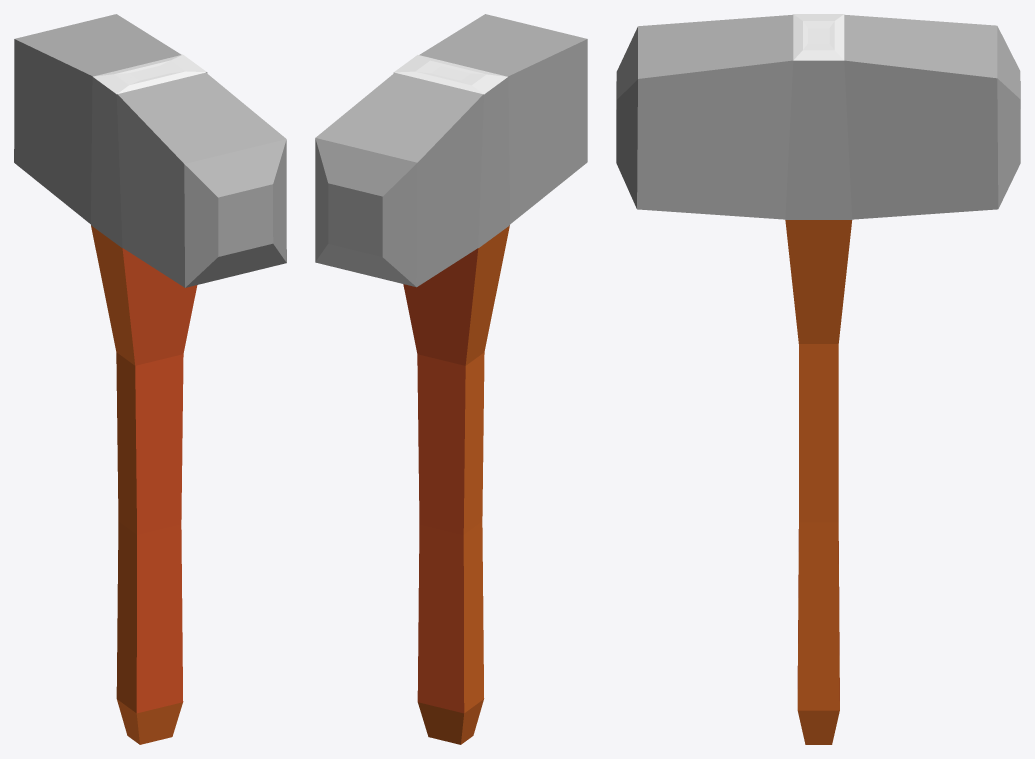
Rendered from Hammer.fbx.
3 views of the same model, side by side, from view 1: azimuth 30°, elevation 25°; view 2: azimuth 150°, elevation 25°; view 3: azimuth 270°, elevation 25° (orthographic). The views are drawn at different scales.
Parts seen in each view (by area): view 1: Cube; view 2: Cube; view 3: Cube.
Part boxes in pixels (box(x1,y1,x2,y2)): Cube: box(14, 14, 286, 744); Cube: box(315, 14, 587, 744); Cube: box(616, 14, 1020, 744).
Size of the model in its own units: 61.42 by 381 by 199.
